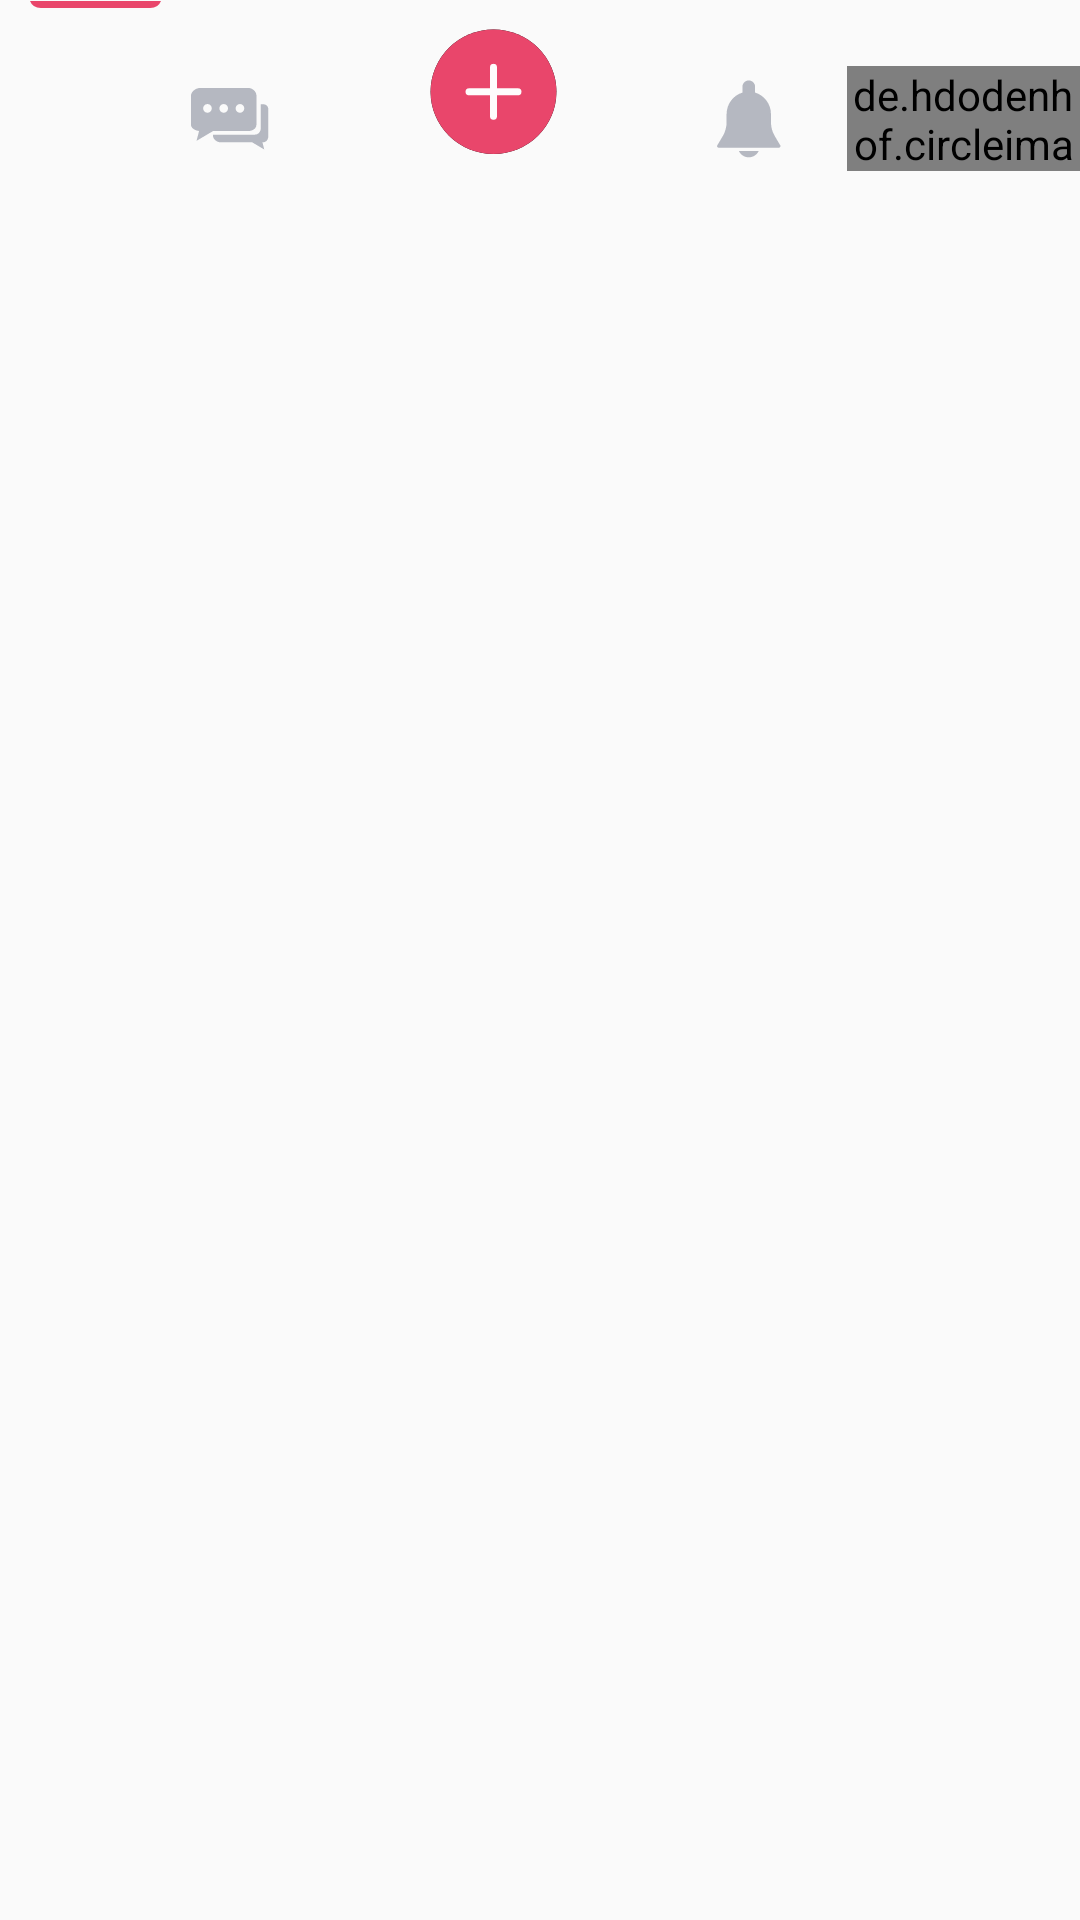

Screen size 1080 × 1920. Icon name, then its box in pixels as (x1, y1, x2, y2):
plus: (430, 29, 557, 154)
